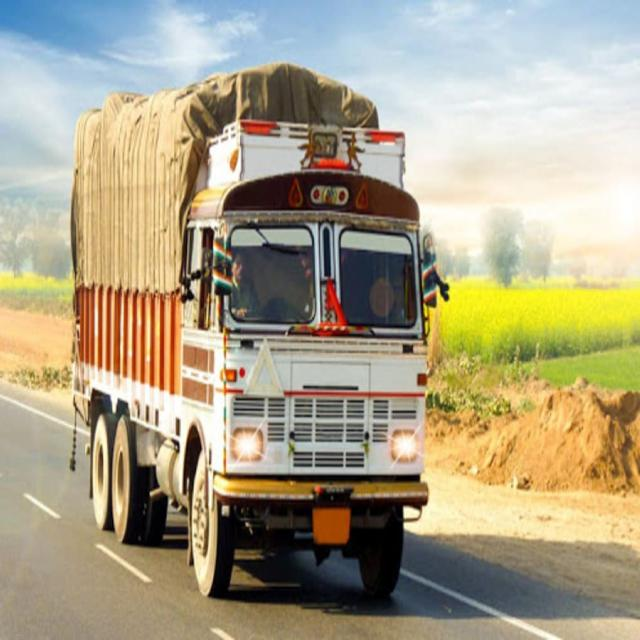truck: (71, 64, 449, 598)
